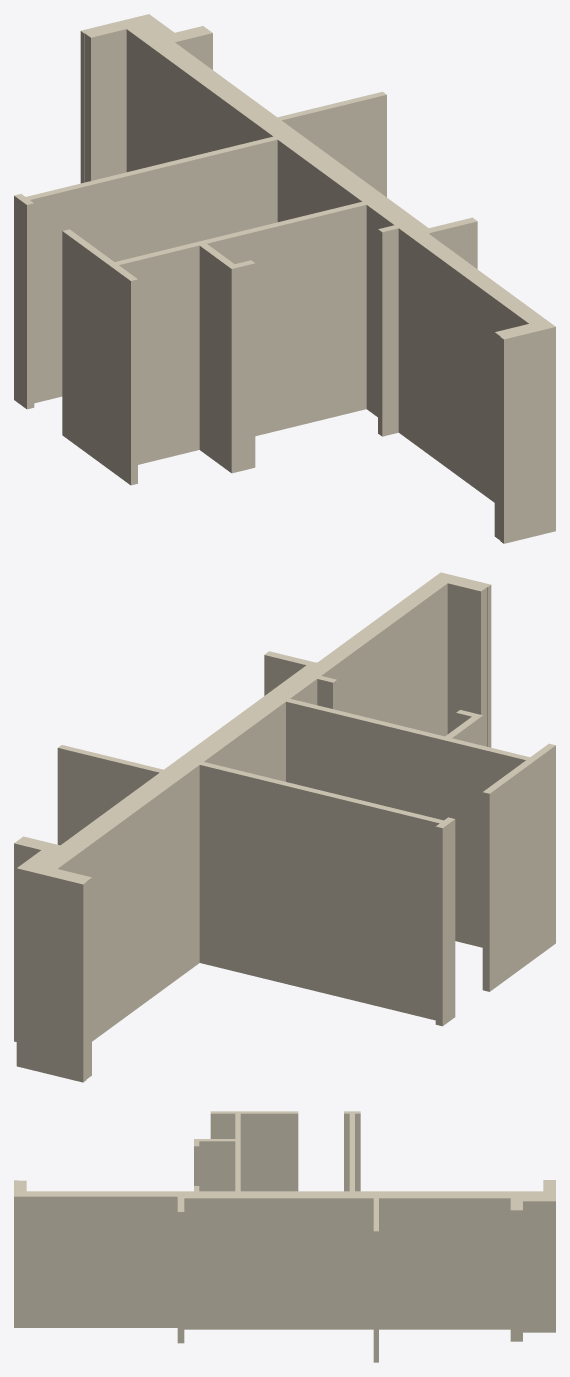
3 renders of one model, top to bottom at view 1: azimuth 30°, elevation 25°; view 2: azimuth 150°, elevation 25°; view 3: azimuth 270°, elevation 25°, orthographic. The views are drawn at different scales.
Parts seen in each view (by area): view 1: A-FF-WALL-019; view 2: A-FF-WALL-019; view 3: A-FF-WALL-019.
Part boxes in pixels (x1=…): A-FF-WALL-019: x1=14, y1=14, x2=555, y2=543; A-FF-WALL-019: x1=14, y1=572, x2=555, y2=1082; A-FF-WALL-019: x1=14, y1=1111, x2=555, y2=1362.
Bounding box in the file's own units: 4.74 × 2.42 × 9.06.
